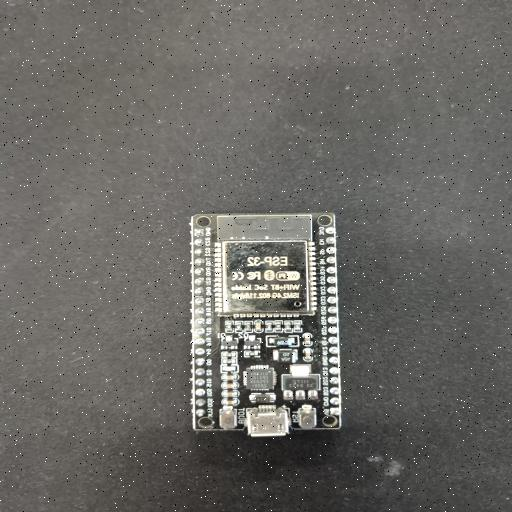esp32-dev: (191, 213, 341, 436)
